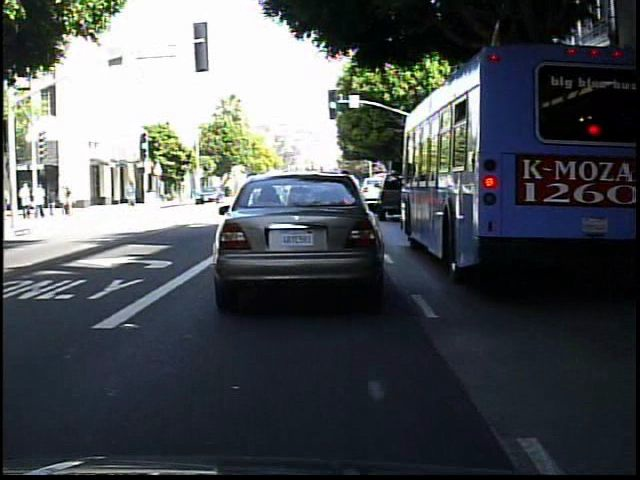person: (33, 180, 48, 221), (17, 182, 33, 220), (123, 178, 140, 212), (61, 179, 76, 217), (47, 183, 62, 219), (59, 179, 67, 216)
